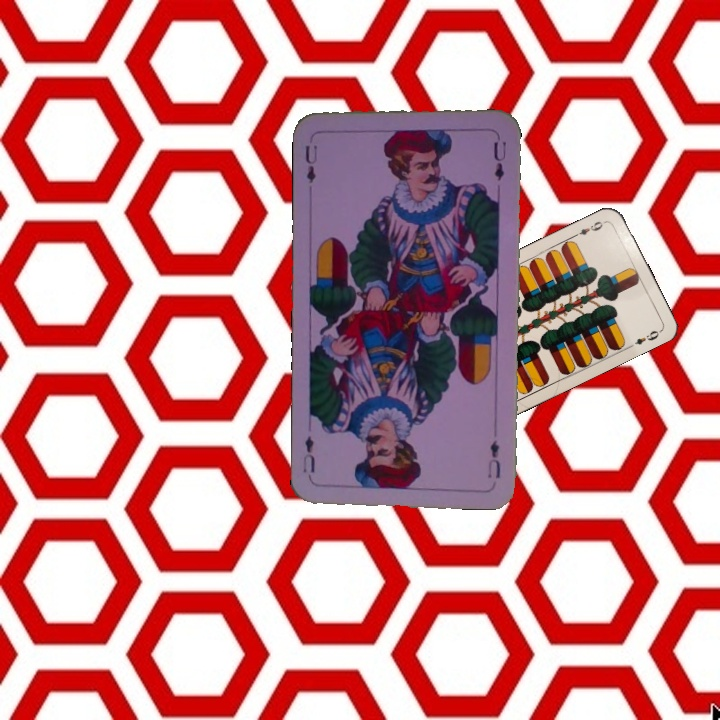E9: (571, 216, 609, 239)
EU: (484, 436, 503, 481), (301, 141, 319, 186)
